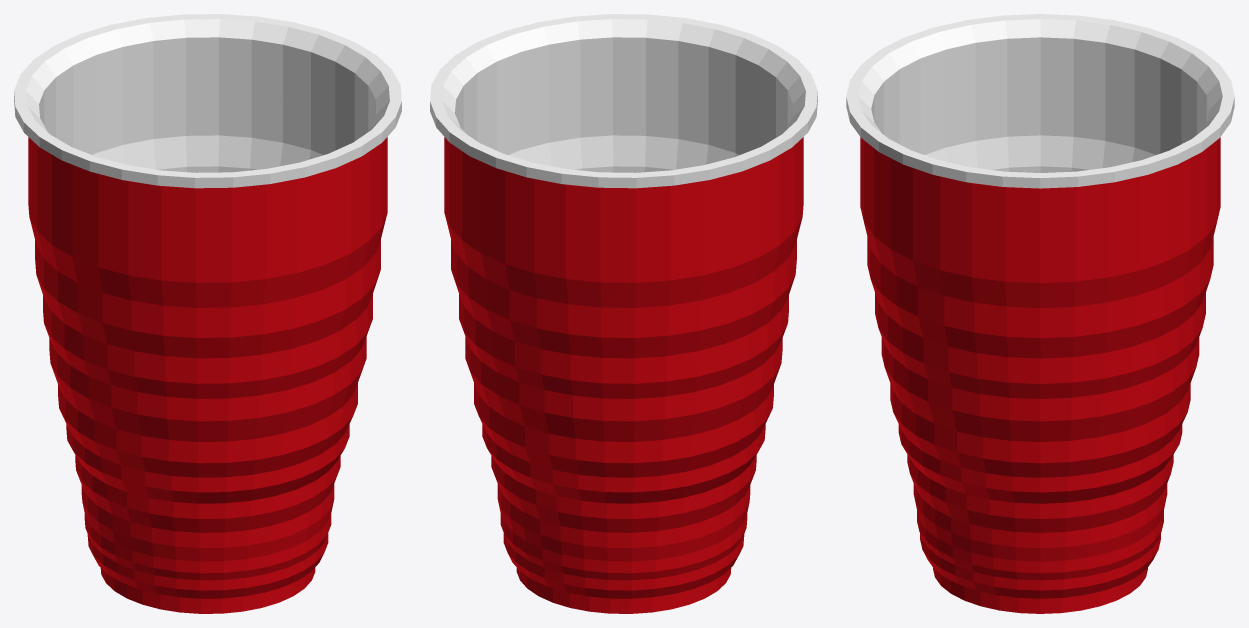
The model's file is cup.glb.
3 views of the same model, side by side, from view 1: azimuth 30°, elevation 25°; view 2: azimuth 150°, elevation 25°; view 3: azimuth 270°, elevation 25° (orthographic).
Parts seen in each view (by area): view 1: Cylinder; view 2: Cylinder; view 3: Cylinder.
Part boxes in pixels (x1,y1,x2,y2): Cylinder: [14, 14, 401, 613]; Cylinder: [430, 14, 817, 613]; Cylinder: [846, 14, 1234, 613].
Size of the model in its own units: 0.1913 by 0.2566 by 0.1913.
